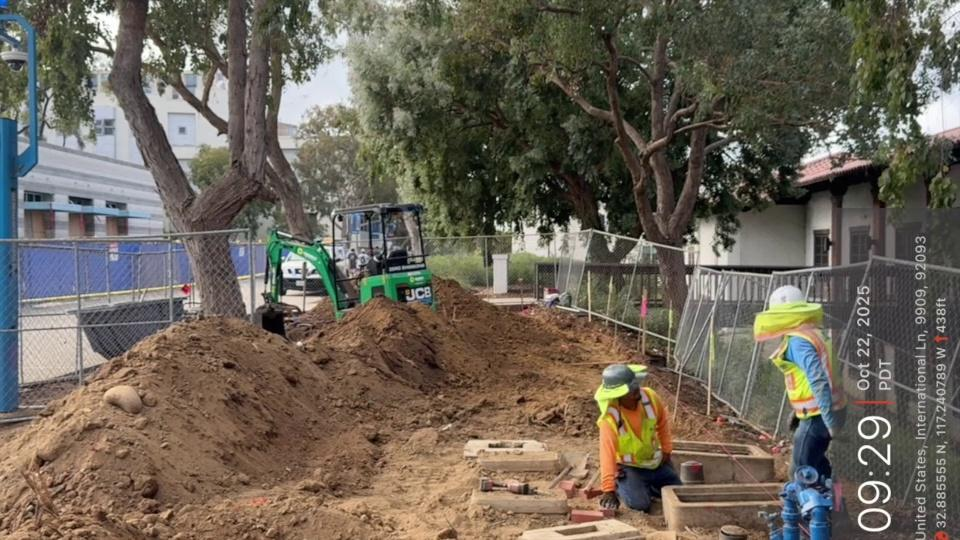Exacavator: (251, 200, 437, 340)
